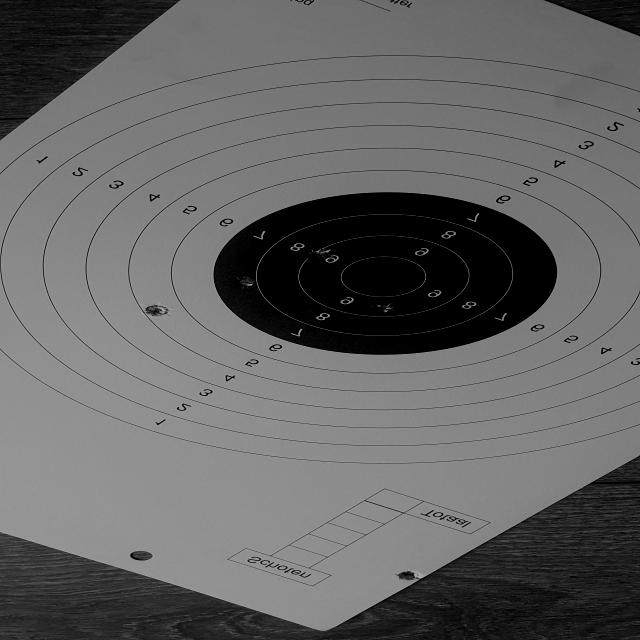0: (397, 570, 422, 582)
5: (142, 304, 170, 317)
7: (223, 275, 256, 290)
9: (300, 247, 332, 260), (365, 303, 394, 316)
Target: (0, 54, 640, 466)
black_contour: (212, 193, 558, 355)
